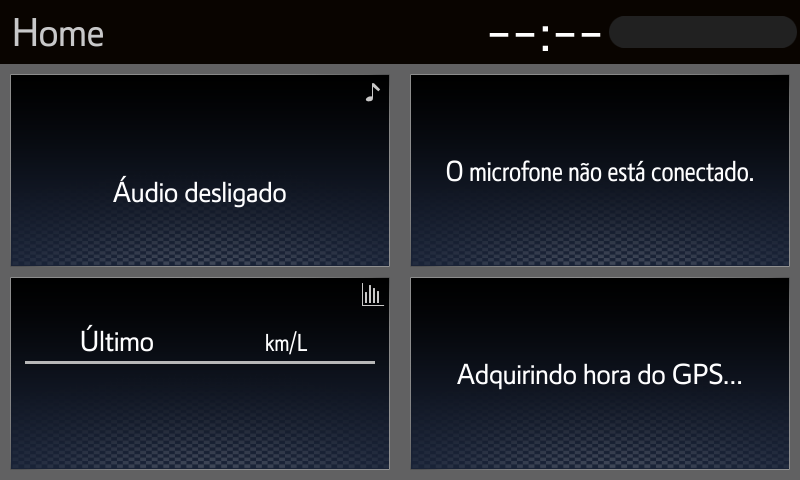touchPart: (405, 276, 796, 471), (10, 274, 390, 474), (407, 74, 792, 271), (8, 74, 394, 266)
untouchPart: (475, 8, 798, 55), (3, 7, 110, 57)
